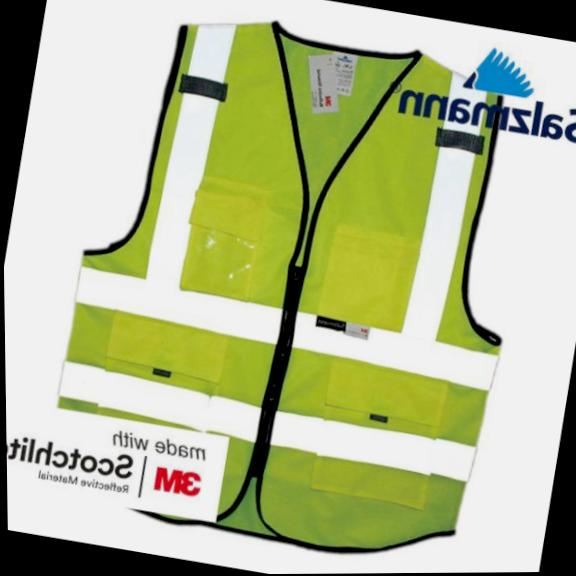safety_vest: (30, 0, 557, 576)
